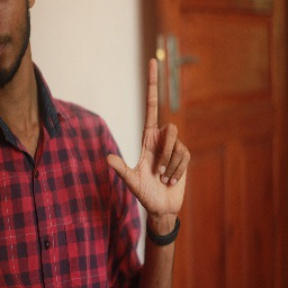L: (103, 56, 199, 212)
